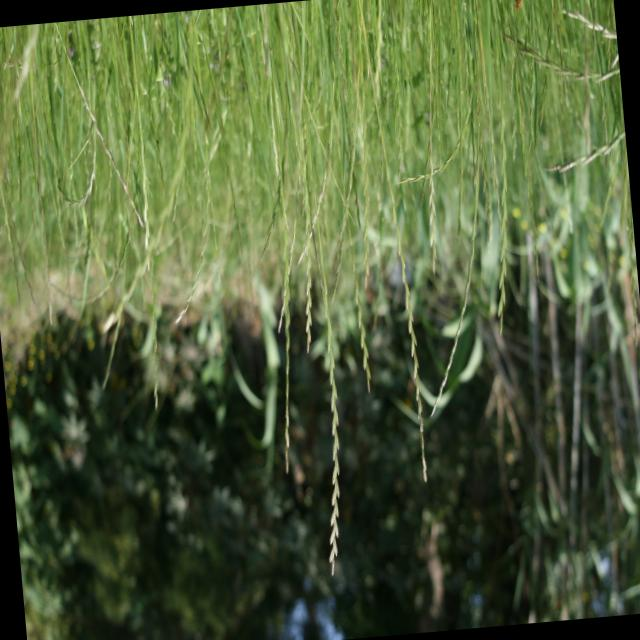Lolium: (274, 14, 372, 570), (353, 0, 448, 481), (240, 3, 316, 475), (405, 0, 513, 329), (313, 0, 382, 403), (43, 16, 150, 240), (533, 0, 627, 179)
